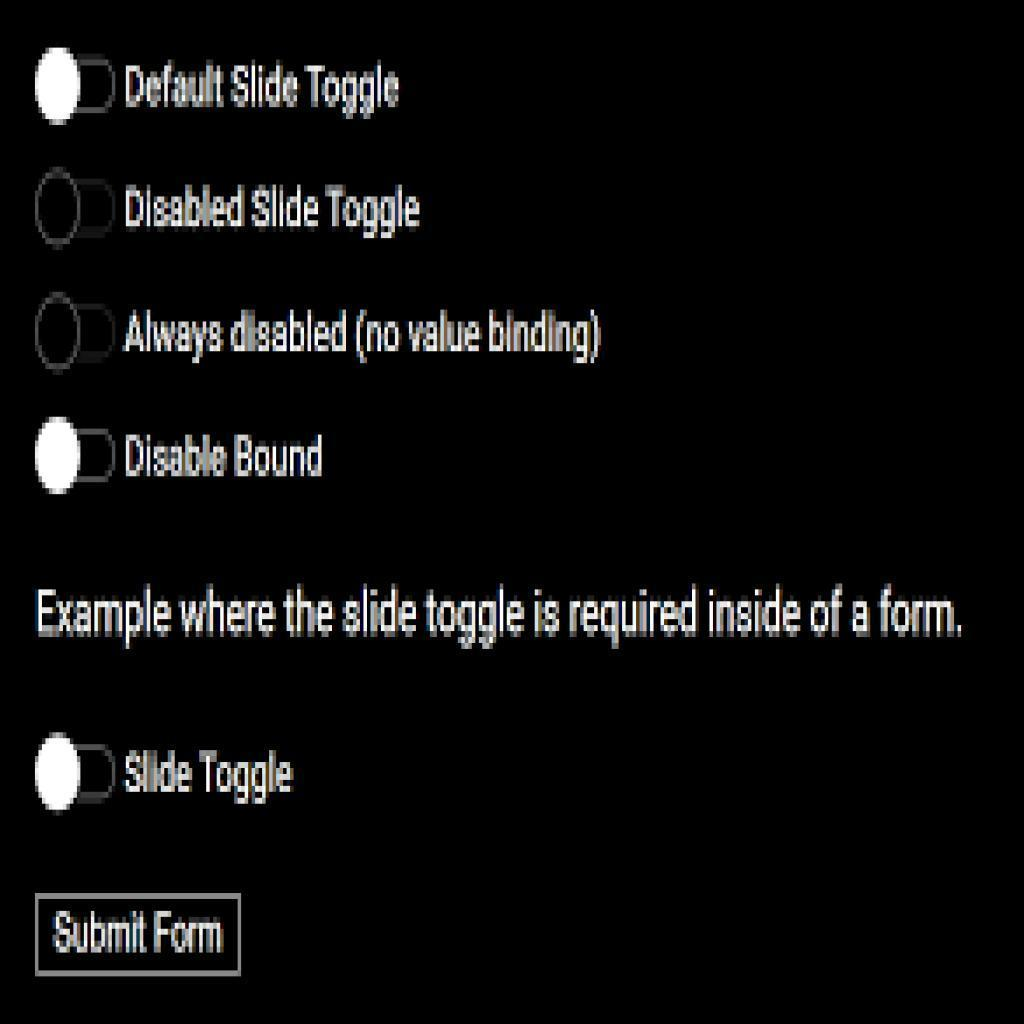button: (37, 893, 241, 977)
label: (26, 585, 962, 647), (125, 311, 611, 365), (126, 54, 401, 119), (124, 180, 424, 239), (125, 743, 298, 809), (123, 435, 334, 482)
switch: (27, 727, 123, 818), (33, 165, 121, 256), (29, 42, 118, 130), (29, 288, 116, 373), (34, 414, 116, 493)
